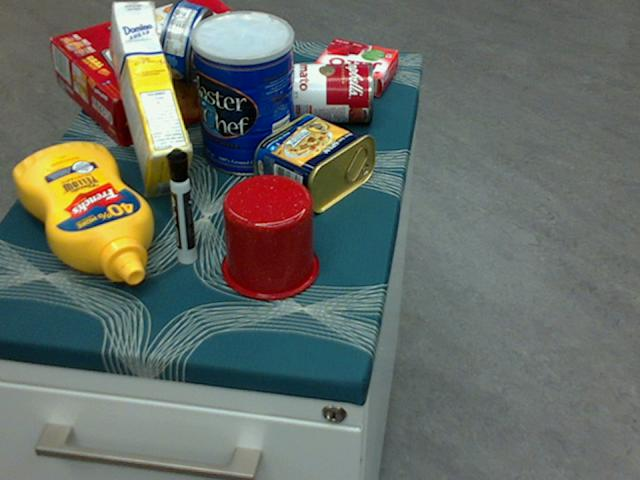cracker_box: (51, 0, 280, 148)
gelatin_box: (311, 40, 397, 94)
large_marker: (165, 148, 196, 262)
master_chef_can: (191, 10, 295, 176)
mug: (219, 172, 319, 299)
mustard_bottle: (12, 142, 152, 284)
potted_meat_can: (253, 111, 375, 213)
sugar_box: (109, 0, 193, 196)
tomato_soup_can: (280, 61, 372, 121)
tuna_fish_can: (157, 0, 213, 84)
